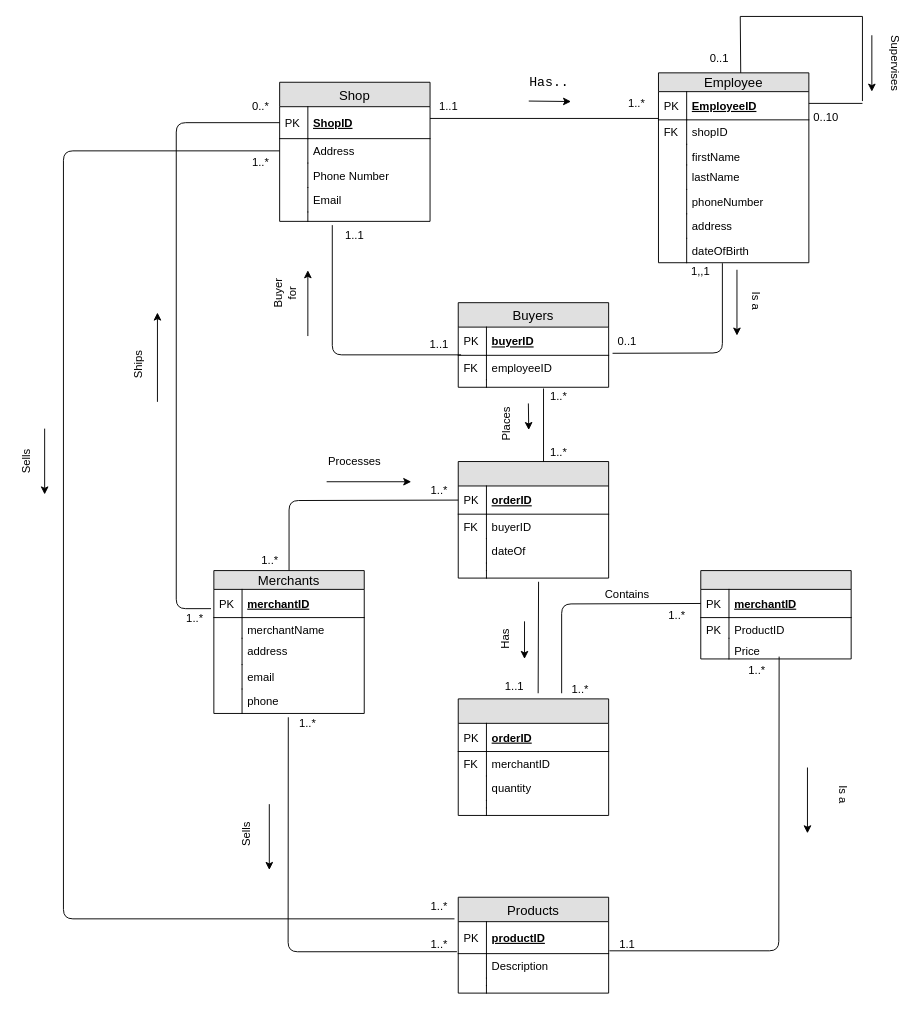
This 920x1010 diagram has some shape labels left out. Here are the shapes that lost their labels. From the top down, the box of each, then its label:
(457, 461, 609, 578): Orders
(700, 570, 851, 659): Merchant Products
(457, 698, 609, 815): orderDetail
